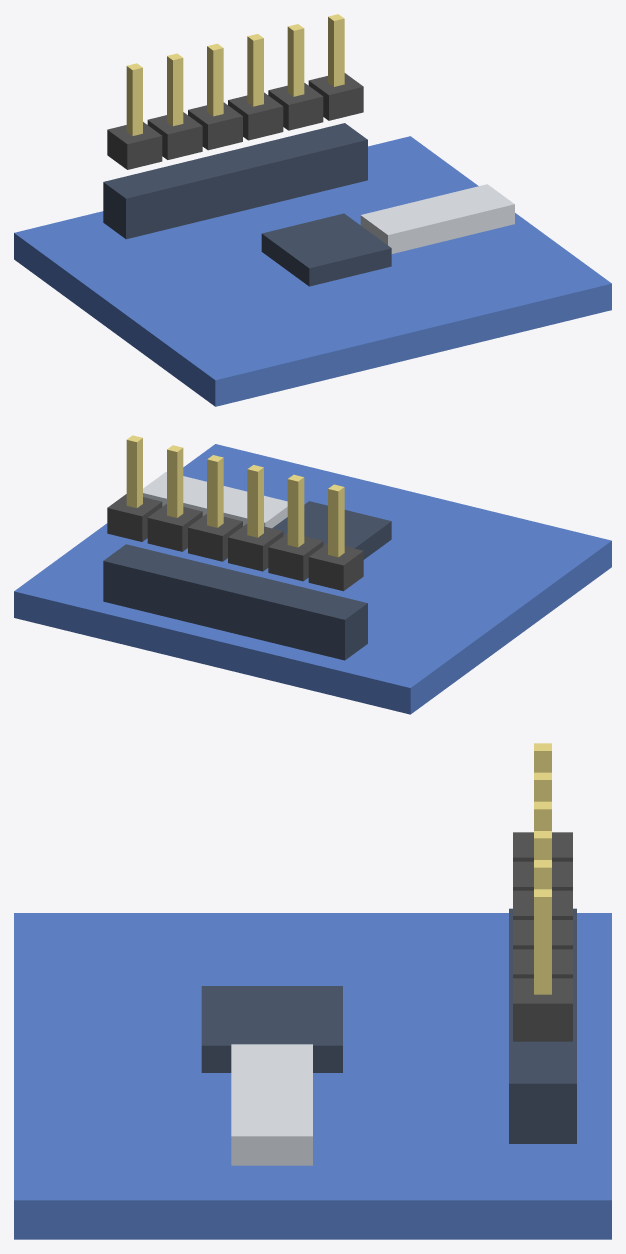
Rendered from ina219-current-sensor.glb.
3 renders of one model, top to bottom at view 1: azimuth 30°, elevation 25°; view 2: azimuth 150°, elevation 25°; view 3: azimuth 270°, elevation 25°, orthographic. The views are drawn at different scales.
Visible parts, largest first — view 1: ina219-current-sensor_mesh; view 2: ina219-current-sensor_mesh; view 3: ina219-current-sensor_mesh.
Part boxes in pixels (x1,y1,x2,y2): ina219-current-sensor_mesh: (14,14,611,406); ina219-current-sensor_mesh: (14,435,611,714); ina219-current-sensor_mesh: (14,743,611,1239).
Size of the model in its own units: 25 by 11.2 by 22.
